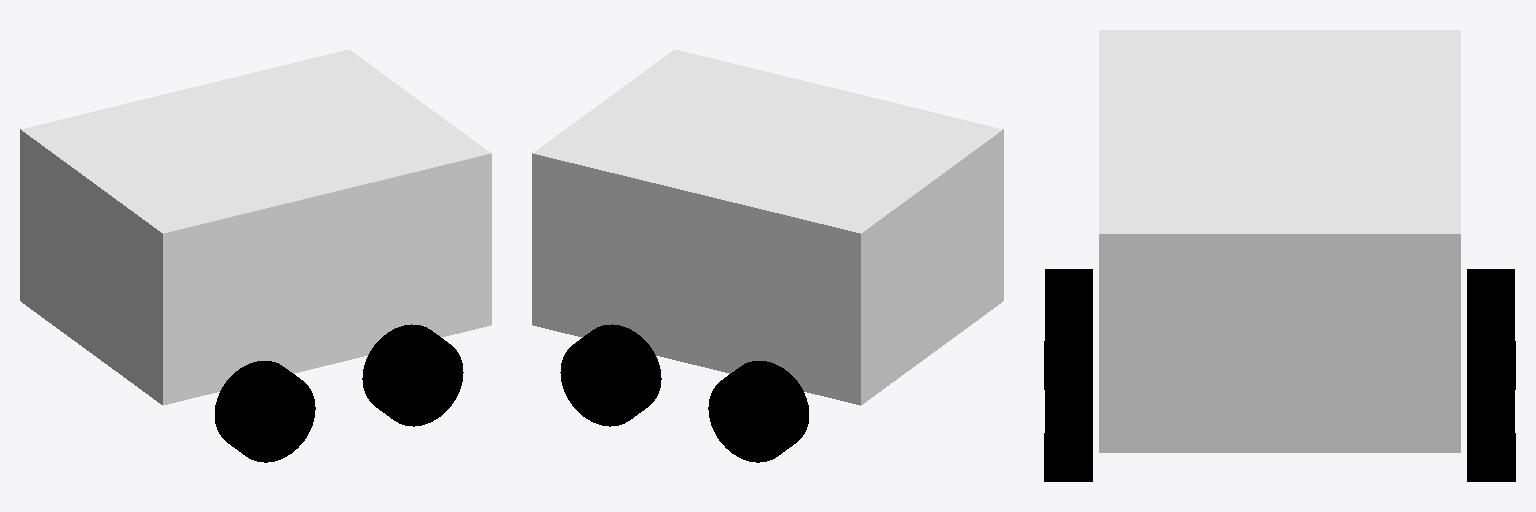
robot.urdf — gueladan:
<?xml version="1.0" ?>
<!-- =================================================================================== -->
<!-- |    This document was autogenerated by xacro from gueladan_simple.urdf.xacro     | -->
<!-- |    EDITING THIS FILE BY HAND IS NOT RECOMMENDED                                 | -->
<!-- =================================================================================== -->
<robot name="gueladan">
  <!-- Specify some standard inertial calculations https://en.wikipedia.org/wiki/List_of_moments_of_inertia -->
  <!-- These make use of xacro's mathematical functionality -->
  <material name="blue">
    <color rgba="0 0 0.8 1"/>
  </material>
  <material name="black">
    <color rgba="0 0 0 1"/>
  </material>
  <material name="white">
    <color rgba="1 1 1 1"/>
  </material>
  <link name="base_link"/>
  <joint name="base_chassis_join" type="fixed">
    <parent link="base_link"/>
    <child link="chassis_link"/>
    <origin rpy="0 0 0" xyz="0 0 0.215"/>
  </joint>
  <link name="chassis_link">
    <visual>
      <geometry>
        <box size="0.8 0.6 0.4"/>
      </geometry>
      <origin rpy="0 0 0" xyz="0 0 0"/>
      <material name="white"/>
    </visual>
    <collision>
      <geometry>
        <box size="0.8 0.6 0.4"/>
      </geometry>
      <origin rpy="0 0 0" xyz="0 0 0"/>
    </collision>
    <inertial>
      <origin rpy="0 0 0" xyz="0 0 0"/>
      <mass value="10"/>
      <inertia ixx="0.4333333333333333" ixy="0.0" ixz="0.0" iyy="0.6666666666666667" iyz="0.0" izz="0.8333333333333333"/>
    </inertial>
  </link>
  <link name="back_left_wheel">
    <visual>
      <geometry>
        <cylinder length="0.08" radius="0.1"/>
      </geometry>
      <origin rpy="0 0 0" xyz="0 0 0"/>
      <material name="black"/>
    </visual>
    <collision>
      <geometry>
        <cylinder length="0.08" radius="0.1"/>
      </geometry>
      <origin rpy="0 0 0" xyz="0 0 0"/>
      <material name="black"/>
    </collision>
    <inertial>
      <origin rpy="0 0 0" xyz="0 0 0"/>
      <mass value="0.5"/>
      <inertia ixx="0.00027916666666666666" ixy="0.0" ixz="0.0" iyy="0.00027916666666666666" iyz="0.0" izz="2.5e-05"/>
    </inertial>
  </link>
  <link name="front_left_wheel">
    <visual>
      <geometry>
        <cylinder length="0.08" radius="0.1"/>
      </geometry>
      <origin rpy="0 0 0" xyz="0 0 0"/>
      <material name="black"/>
    </visual>
    <collision>
      <geometry>
        <cylinder length="0.08" radius="0.1"/>
      </geometry>
      <origin rpy="0 0 0" xyz="0 0 0"/>
      <material name="black"/>
    </collision>
    <inertial>
      <origin rpy="0 0 0" xyz="0 0 0"/>
      <mass value="0.5"/>
      <inertia ixx="0.00027916666666666666" ixy="0.0" ixz="0.0" iyy="0.00027916666666666666" iyz="0.0" izz="2.5e-05"/>
    </inertial>
  </link>
  <link name="back_right_wheel">
    <visual>
      <geometry>
        <cylinder length="0.08" radius="0.1"/>
      </geometry>
      <origin rpy="0 0 0" xyz="0 0 0"/>
      <material name="black"/>
    </visual>
    <collision>
      <geometry>
        <cylinder length="0.08" radius="0.1"/>
      </geometry>
      <origin rpy="0 0 0" xyz="0 0 0"/>
      <material name="black"/>
    </collision>
    <inertial>
      <origin rpy="0 0 0" xyz="0 0 0"/>
      <mass value="0.5"/>
      <inertia ixx="0.00027916666666666666" ixy="0.0" ixz="0.0" iyy="0.00027916666666666666" iyz="0.0" izz="2.5e-05"/>
    </inertial>
  </link>
  <link name="front_right_wheel">
    <visual>
      <geometry>
        <cylinder length="0.08" radius="0.1"/>
      </geometry>
      <origin rpy="0 0 0" xyz="0 0 0"/>
      <material name="black"/>
    </visual>
    <collision>
      <geometry>
        <cylinder length="0.08" radius="0.1"/>
      </geometry>
      <origin rpy="0 0 0" xyz="0 0 0"/>
      <material name="black"/>
    </collision>
    <inertial>
      <origin rpy="0 0 0" xyz="0 0 0"/>
      <mass value="0.5"/>
      <inertia ixx="0.00027916666666666666" ixy="0.0" ixz="0.0" iyy="0.00027916666666666666" iyz="0.0" izz="2.5e-05"/>
    </inertial>
  </link>
  <joint name="front_right_wheel_joint" type="continuous">
    <parent link="base_link"/>
    <child link="front_right_wheel"/>
    <origin rpy="1.57 0 0" xyz="0.18 -0.35 -0.03"/>
    <axis xyz="0 0 -1"/>
  </joint>
  <transmission name="front_right_wheel_trans">
    <type>transmission_interface/SimpleTransmission</type>
    <actuator name="front_right_wheel_motor">
      <mechanicalReduction>1</mechanicalReduction>
    </actuator>
    <joint name="front_right_wheel_joint">
      <hardwareInterface>hardware_interface/VelocityJointInterface</hardwareInterface>
    </joint>
  </transmission>
  <joint name="back_right_wheel_joint" type="continuous">
    <parent link="base_link"/>
    <child link="back_right_wheel"/>
    <origin rpy="1.57 0 0" xyz="-0.18 -0.35 -0.03"/>
    <axis xyz="0 0 -1"/>
  </joint>
  <transmission name="back_right_wheel_trans">
    <type>transmission_interface/SimpleTransmission</type>
    <actuator name="back_right_wheel_motor">
      <mechanicalReduction>1</mechanicalReduction>
    </actuator>
    <joint name="back_right_wheel_joint">
      <hardwareInterface>hardware_interface/VelocityJointInterface</hardwareInterface>
    </joint>
  </transmission>
  <joint name="front_left_wheel_joint" type="continuous">
    <parent link="base_link"/>
    <child link="front_left_wheel"/>
    <origin rpy="-1.57 0 0" xyz="0.18 0.35 -0.03"/>
    <axis xyz="0 0 1"/>
  </joint>
  <transmission name="front_left_wheel_trans">
    <type>transmission_interface/SimpleTransmission</type>
    <actuator name="front_left_wheel_motor">
      <mechanicalReduction>1</mechanicalReduction>
    </actuator>
    <joint name="front_left_wheel_joint">
      <hardwareInterface>hardware_interface/VelocityJointInterface</hardwareInterface>
    </joint>
  </transmission>
  <joint name="back_left_wheel_joint" type="continuous">
    <parent link="base_link"/>
    <child link="back_left_wheel"/>
    <origin rpy="-1.57 0 0" xyz="-0.18 0.35 -0.03"/>
    <axis xyz="0 0 1"/>
  </joint>
  <transmission name="back_left_wheel_trans">
    <type>transmission_interface/SimpleTransmission</type>
    <actuator name="back_left_wheel_motor">
      <mechanicalReduction>1</mechanicalReduction>
    </actuator>
    <joint name="back_left_wheel_joint">
      <hardwareInterface>hardware_interface/VelocityJointInterface</hardwareInterface>
    </joint>
  </transmission>
  <gazebo reference="back_right_wheel">
    <mu1 value="200.0"/>
    <mu2 value="100.0"/>
    <kp value="10000000.0"/>
    <kd value="1.0"/>
    <material>Gazebo/Grey</material>
  </gazebo>
  <gazebo reference="front_right_wheel">
    <mu1 value="200.0"/>
    <mu2 value="100.0"/>
    <kp value="10000000.0"/>
    <kd value="1.0"/>
    <material>Gazebo/Grey</material>
  </gazebo>
  <gazebo reference="front_left_wheel">
    <mu1 value="200.0"/>
    <mu2 value="100.0"/>
    <kp value="10000000.0"/>
    <kd value="1.0"/>
    <material>Gazebo/Grey</material>
  </gazebo>
  <gazebo reference="back_left_wheel">
    <mu1 value="200.0"/>
    <mu2 value="100.0"/>
    <kp value="10000000.0"/>
    <kd value="1.0"/>
    <material>Gazebo/Grey</material>
  </gazebo>
  <gazebo>
    <plugin filename="libgazebo_ros_control.so" name="gazebo_ros_control">
      <robotNamespace>/</robotNamespace>
    </plugin>
  </gazebo>
</robot>

--- Render facts (derived) ---
The picture shows the robot from 3 angles, left to right: view 1: azimuth 30°, elevation 25°; view 2: azimuth 150°, elevation 25°; view 3: azimuth 270°, elevation 25°; orthographic projection.
Robot: gueladan — 6 links, 5 joints (4 continuous, 1 fixed); root link base_link; default pose: all joints at 0.
Visible links, largest first — view 1: chassis_link, back_right_wheel, front_right_wheel; view 2: chassis_link, back_left_wheel, front_left_wheel; view 3: chassis_link, front_left_wheel, front_right_wheel, back_left_wheel, back_right_wheel.
Link boxes in pixels (x1,y1,x2,y2): chassis_link: [20, 49, 491, 405]; back_right_wheel: [215, 361, 315, 462]; front_right_wheel: [362, 324, 463, 426]; chassis_link: [532, 49, 1003, 405]; back_left_wheel: [708, 361, 808, 462]; front_left_wheel: [560, 324, 661, 426]; chassis_link: [1099, 30, 1460, 452]; front_left_wheel: [1467, 361, 1515, 481]; front_right_wheel: [1044, 361, 1092, 481]; back_left_wheel: [1467, 269, 1515, 389]; back_right_wheel: [1044, 269, 1092, 389].
Bounding box of the posed robot: 0.8 × 0.7802 × 0.545 m (x, y, z).
Geometry: primitives only (box / cylinder / sphere), no mesh files.
